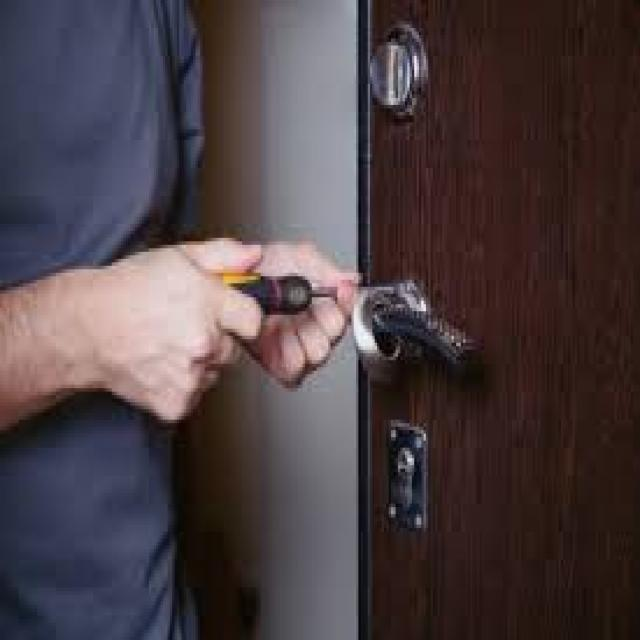screwdriver: (199, 252, 392, 326)
